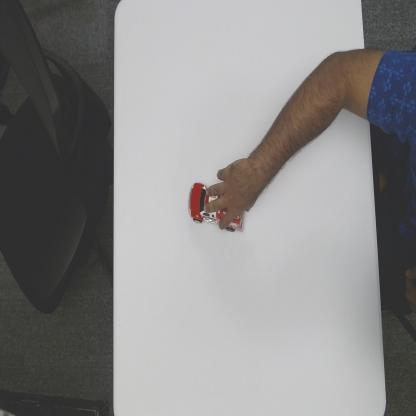Arm: (265, 40, 366, 186)
Firetruck: (188, 182, 246, 232)
Hand: (207, 158, 264, 230)
